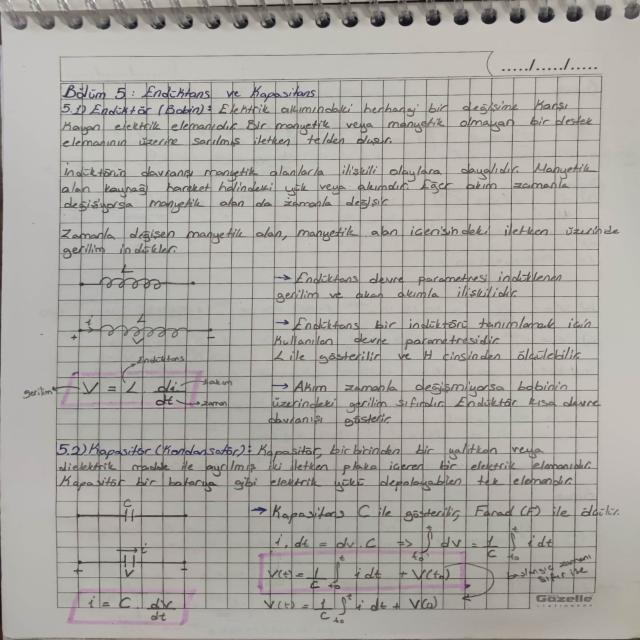image: (65, 309, 224, 347), (64, 540, 195, 584), (64, 496, 198, 530), (76, 260, 204, 294)
math: (18, 353, 238, 412), (264, 522, 566, 560), (259, 549, 461, 592), (258, 591, 451, 623), (79, 591, 186, 626)
text: (58, 158, 603, 212), (52, 438, 600, 489), (59, 102, 598, 146), (266, 376, 604, 428), (59, 224, 626, 254), (271, 314, 598, 366), (265, 267, 569, 300), (244, 500, 622, 523), (57, 82, 321, 102), (502, 552, 602, 587)
